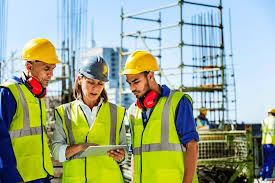hard hat: (20, 37, 62, 66), (123, 51, 162, 77), (79, 55, 109, 83), (199, 107, 207, 114), (267, 108, 275, 113)
high-vis: (127, 90, 198, 183), (53, 99, 126, 183), (1, 80, 53, 182), (262, 115, 275, 144), (197, 118, 209, 129)
